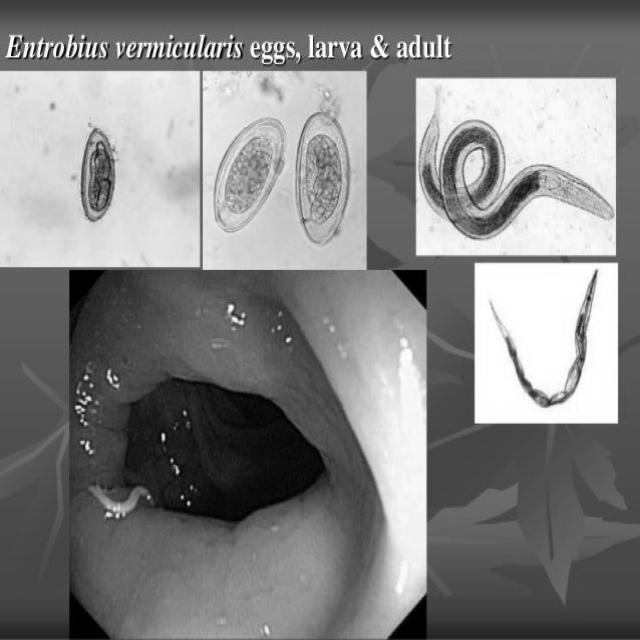Enterobius Vermicularis: (212, 115, 290, 236), (289, 107, 354, 250), (75, 122, 118, 226)
